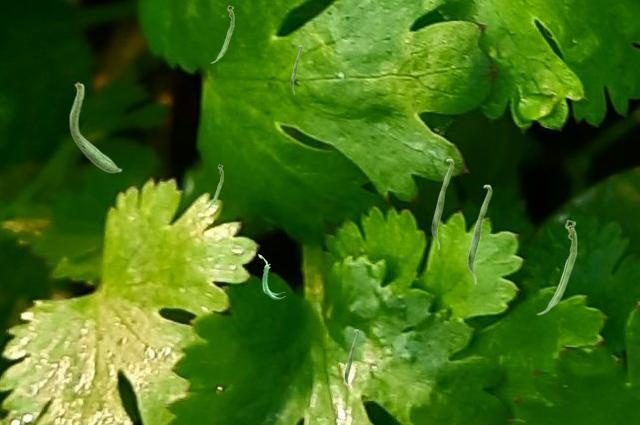french_bean: (69, 81, 121, 172), (536, 219, 576, 314), (467, 184, 491, 284), (431, 158, 453, 249), (210, 5, 233, 62), (258, 254, 284, 298), (344, 329, 358, 390), (204, 164, 222, 208), (290, 45, 301, 94)
